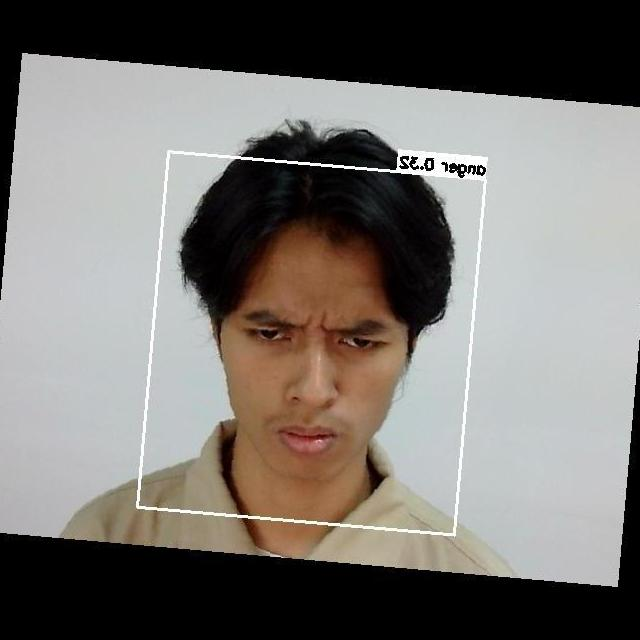Fear: (221, 285, 417, 482)
